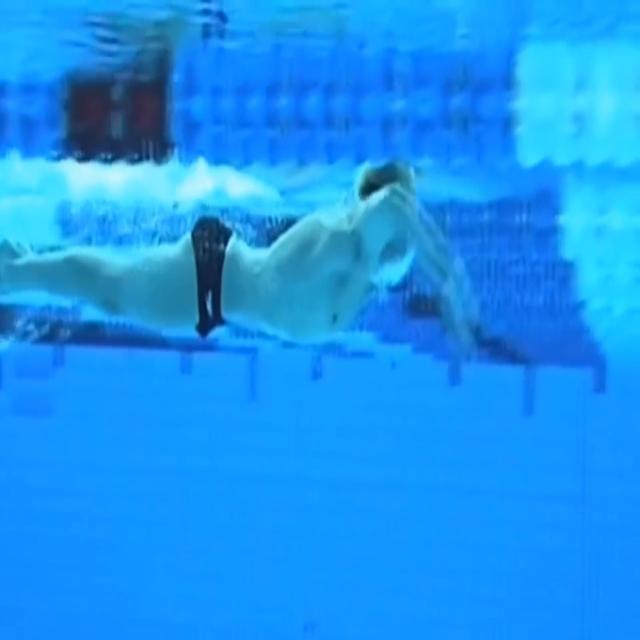Swimming: (0, 165, 481, 360)
